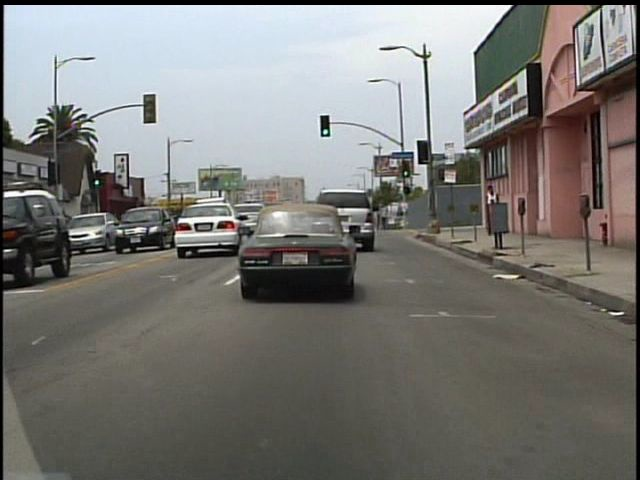person: (482, 183, 503, 236)
